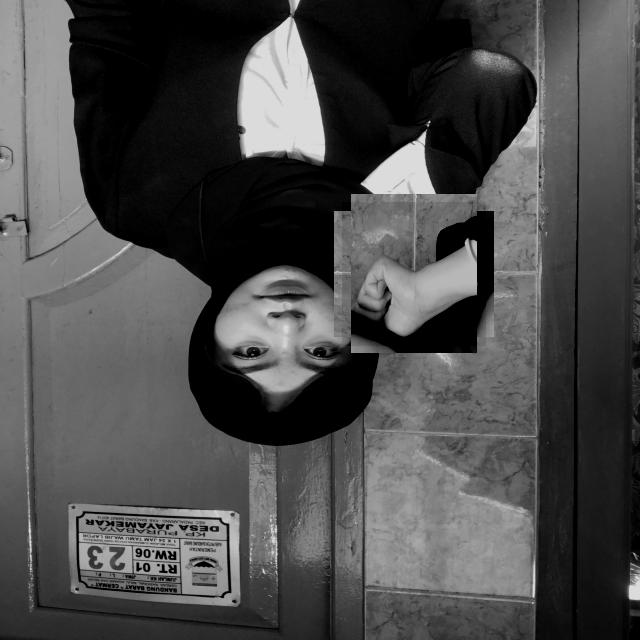ibu: (342, 202, 486, 346)
